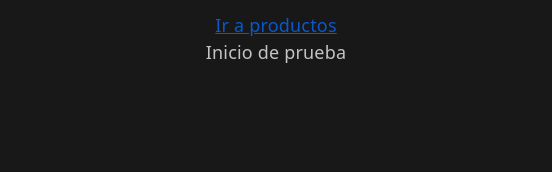
Test: Atomo Enlace › ENL-02: navega a una pagina interna al hacer clic
Click the link "Ir a productos": click(276, 25) [215,13,337,37]
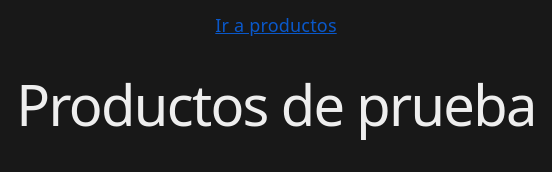
expect the heading "Productos de prueba" is shown: met, box [16,66,536,142]
